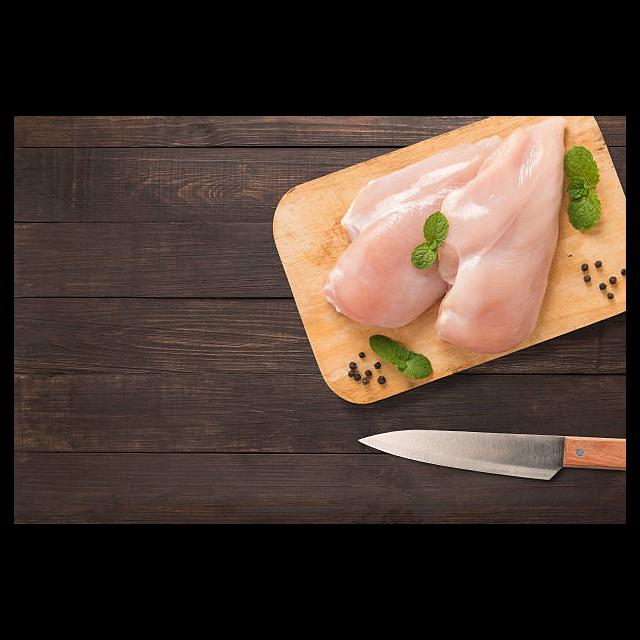chicken: (322, 116, 566, 352)
